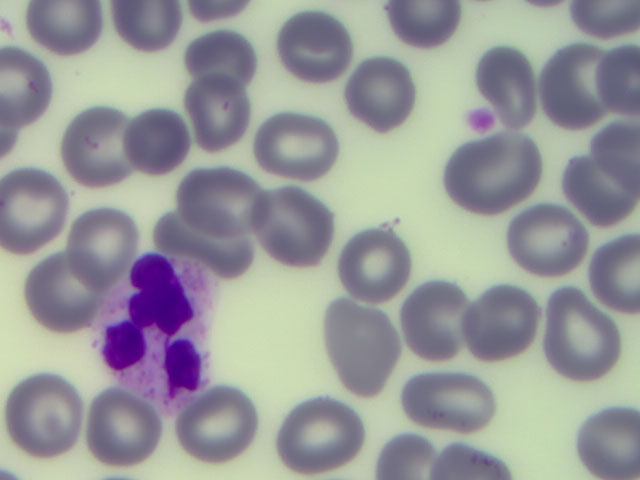RBC: (401, 277, 482, 358), (522, 45, 610, 119), (440, 133, 518, 216), (94, 313, 170, 395), (356, 374, 430, 453), (268, 110, 344, 185), (3, 379, 75, 456), (92, 151, 169, 223), (252, 187, 322, 266), (493, 198, 567, 272), (402, 363, 473, 440), (185, 71, 253, 151), (124, 24, 205, 90), (568, 275, 637, 352), (556, 358, 631, 428), (343, 54, 415, 126), (22, 44, 97, 113), (186, 160, 257, 232), (259, 318, 331, 389), (213, 3, 279, 78), (36, 89, 106, 159), (268, 394, 335, 466), (114, 74, 181, 145), (277, 15, 353, 76), (62, 222, 130, 290), (91, 394, 156, 463), (473, 359, 543, 423), (30, 278, 84, 360), (183, 391, 246, 459), (137, 224, 200, 290), (472, 295, 536, 352), (553, 437, 632, 480), (1, 212, 45, 282), (602, 29, 640, 92), (1, 133, 43, 189), (475, 445, 534, 480), (521, 1, 576, 37), (616, 198, 640, 270), (60, 1, 126, 24), (619, 71, 640, 137), (1, 1, 44, 31)
WBC: (329, 217, 405, 303)
